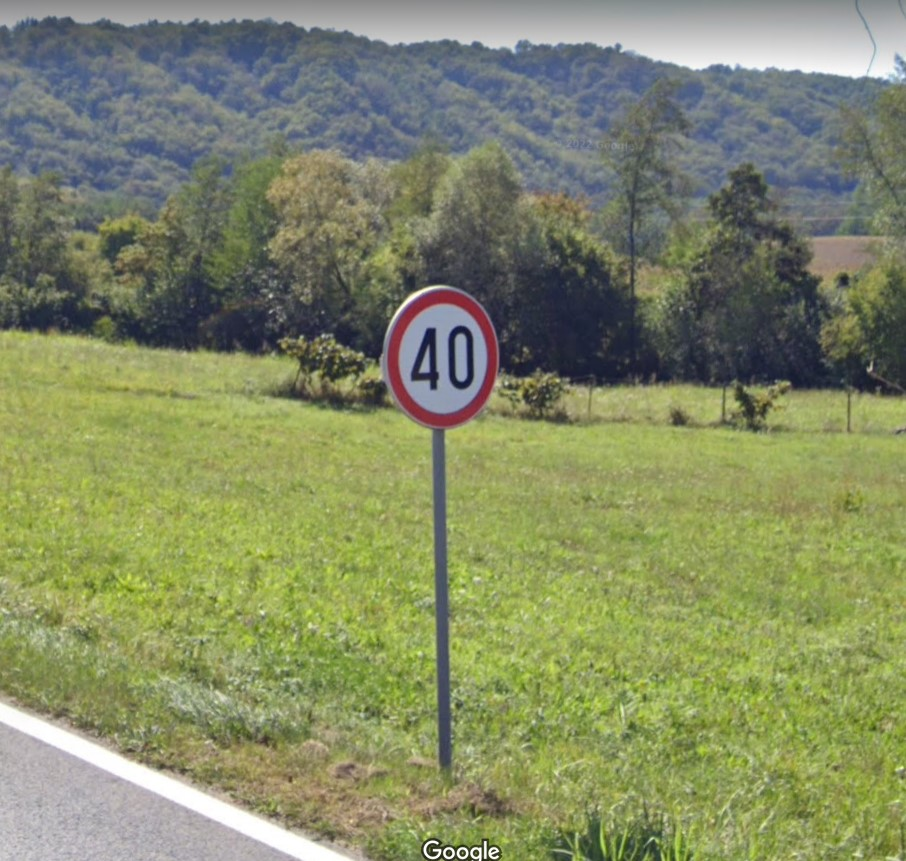Ograničenje brzine 40: (385, 284, 499, 430)
